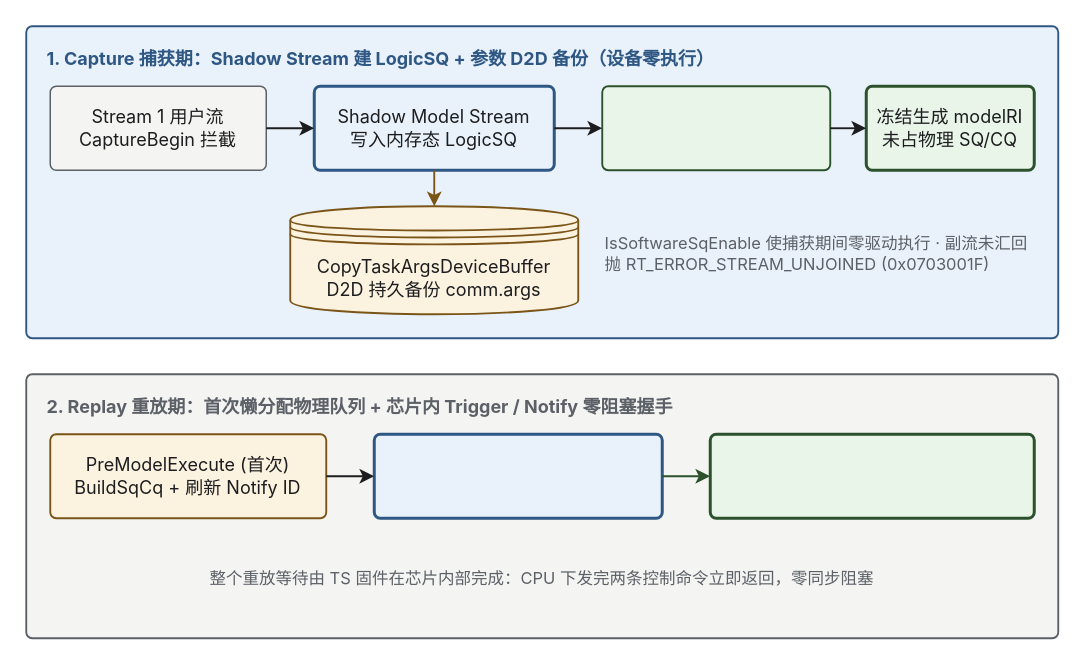
The diagram is 1086 pixels wide and 666 high, and some of its shapes have lost their labels. Each missing label, with the box of its shape:
CaptureEnd 闭合校验 追加 EndGraph Notify: (601, 85, 831, 171)
Stream 1 下发两条控制命令 model exe + notify wait: (372, 432, 663, 519)
影子流 TS 满载连跑 尾发 EndGraph Notify 唤醒: (708, 432, 1035, 519)
